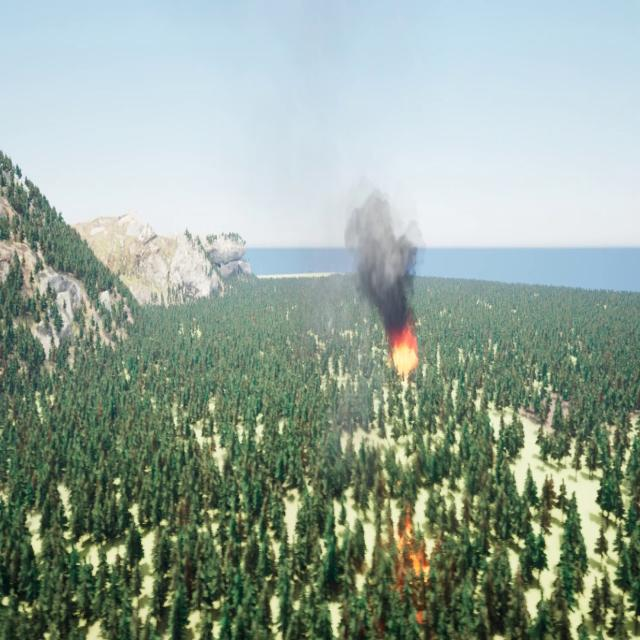fire: (386, 509, 433, 622), (388, 328, 422, 372)
smoke: (339, 185, 423, 322)
